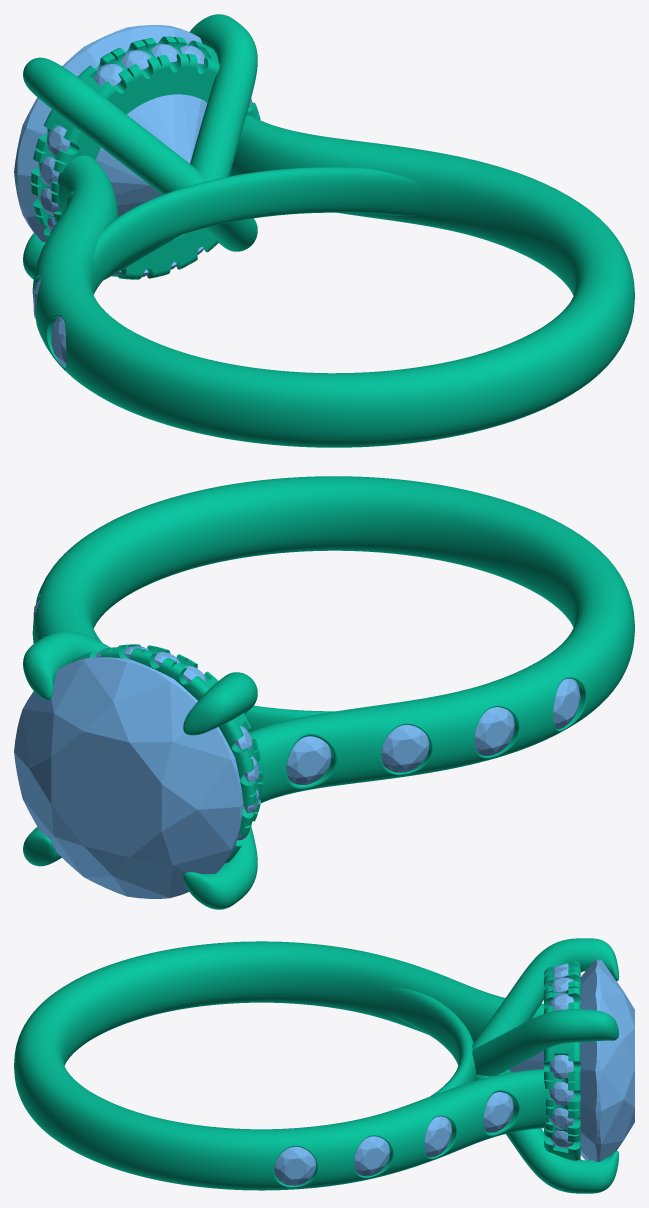
3 renders of one model, top to bottom at view 1: azimuth 30°, elevation 25°; view 2: azimuth 150°, elevation 25°; view 3: azimuth 270°, elevation 25°, orthographic. The views are drawn at different scales.
Parts seen in each view (by area): view 1: Metal 01.007, Metal 01.006, Metal 01.001, Metal 01, Gem 01, Metal 01.004, Metal 01.002, Metal 01.003, Metal 01.005, Gem 01.024; view 2: Gem 01, Metal 01.007, Metal 01.006, Metal 01, Metal 01.005, Metal 01.002, Metal 01.004, Gem 01.022, Gem 01.021, Gem 01.023, Metal 01.001, Gem 01.024 (+1 smaller); view 3: Metal 01.006, Metal 01.007, Gem 01, Metal 01.002, Metal 01.004, Metal 01.001, Metal 01, Metal 01.003, Gem 01.017, Gem 01.018, Gem 01.020, Gem 01.019 (+3 smaller).
Boxes of the visible parts, x1=… form: Metal 01.007: x1=32, y1=155, x2=484, y2=447; Metal 01.006: x1=229, y1=115, x2=634, y2=430; Metal 01.001: x1=93, y1=167, x2=425, y2=293; Metal 01: x1=31, y1=36, x2=260, y2=279; Gem 01: x1=14, y1=25, x2=207, y2=241; Metal 01.004: x1=23, y1=57, x2=204, y2=194; Metal 01.002: x1=190, y1=14, x2=257, y2=181; Metal 01.003: x1=203, y1=218, x2=257, y2=251; Metal 01.005: x1=23, y1=233, x2=180, y2=279; Gem 01.024: x1=51, y1=316, x2=66, y2=367; Gem 01: x1=14, y1=657, x2=243, y2=898; Metal 01.007: x1=249, y1=492, x2=634, y2=802; Metal 01.006: x1=32, y1=476, x2=475, y2=643; Metal 01: x1=71, y1=644, x2=262, y2=863; Metal 01.005: x1=183, y1=826, x2=257, y2=909; Metal 01.002: x1=23, y1=631, x2=110, y2=700; Metal 01.004: x1=183, y1=672, x2=257, y2=735; Gem 01.022: x1=381, y1=724, x2=429, y2=772; Gem 01.021: x1=286, y1=736, x2=331, y2=784; Gem 01.023: x1=474, y1=707, x2=514, y2=755; Metal 01.001: x1=94, y1=630, x2=334, y2=732; Gem 01.024: x1=553, y1=678, x2=580, y2=728; Metal 01.006: x1=14, y1=1038, x2=549, y2=1190; Metal 01.007: x1=14, y1=941, x2=543, y2=1065; Gem 01: x1=509, y1=959, x2=634, y2=1161; Metal 01.002: x1=472, y1=1009, x2=619, y2=1076; Metal 01.004: x1=472, y1=938, x2=619, y2=1049; Metal 01.001: x1=383, y1=987, x2=476, y2=1096; Metal 01: x1=544, y1=960, x2=580, y2=1160; Metal 01.003: x1=476, y1=1072, x2=619, y2=1193; Gem 01.017: x1=274, y1=1146, x2=315, y2=1185; Gem 01.018: x1=354, y1=1136, x2=389, y2=1176; Gem 01.020: x1=483, y1=1092, x2=513, y2=1132; Gem 01.019: x1=424, y1=1116, x2=451, y2=1157.
Size of the model in its own units: 2.41 by 1.03 by 3.02.
